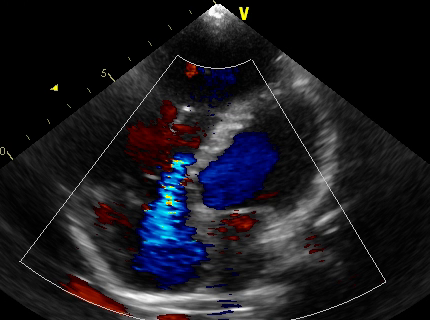TR: (109, 156, 196, 239)
